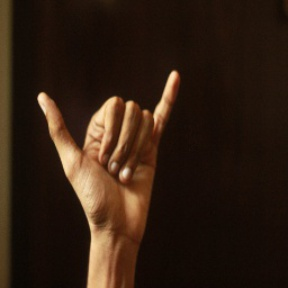J: (34, 62, 184, 227)
